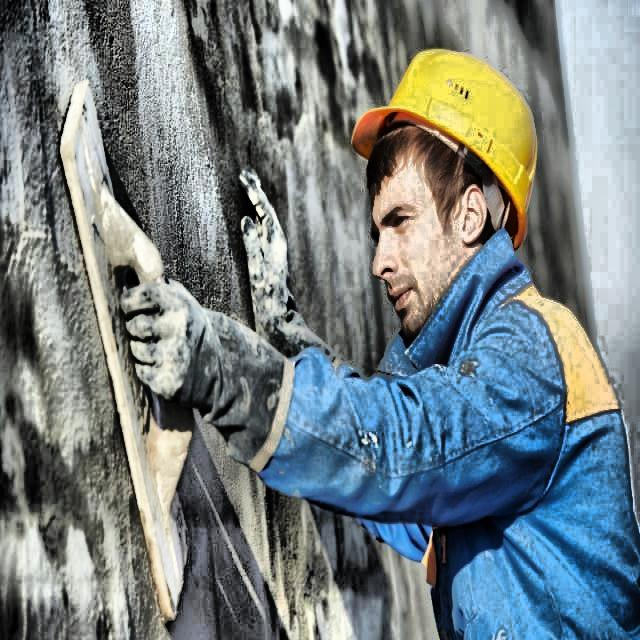person: (316, 38, 639, 640)
